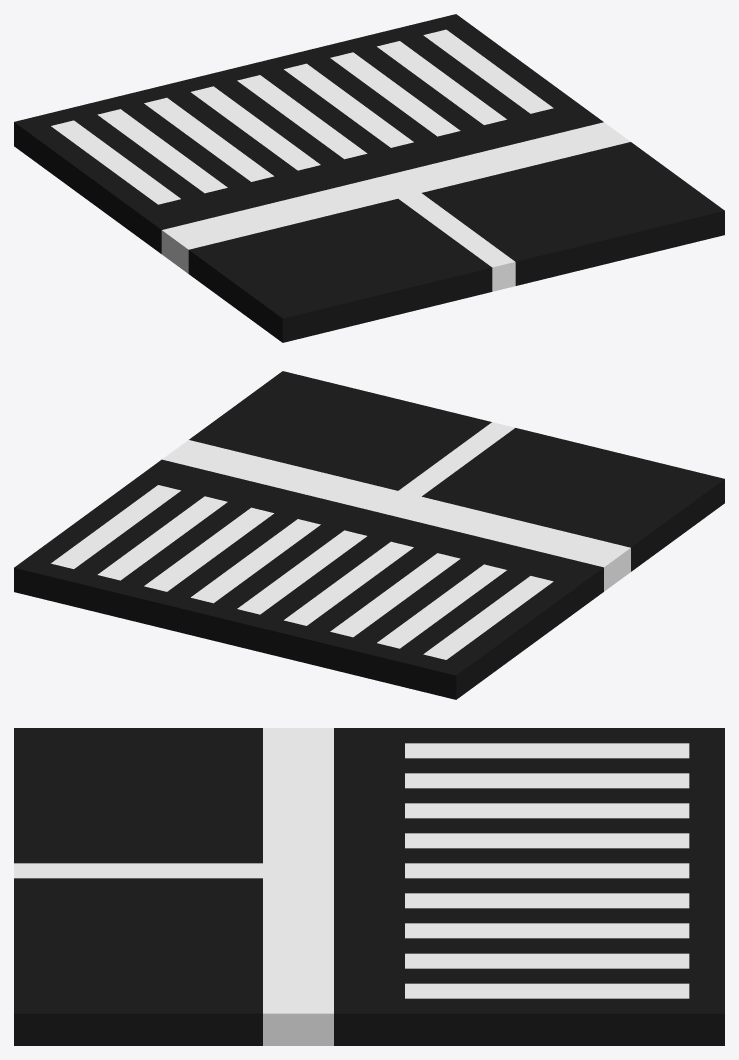
File: ConstructionMaterials-61.obj
3 views of the same model, one above another, from view 1: azimuth 30°, elevation 25°; view 2: azimuth 150°, elevation 25°; view 3: azimuth 270°, elevation 25° (orthographic). The views are drawn at different scales.
Bounding box in the file's own units: 1.9 × 0.1 × 2.
1 material, 1 textured.
